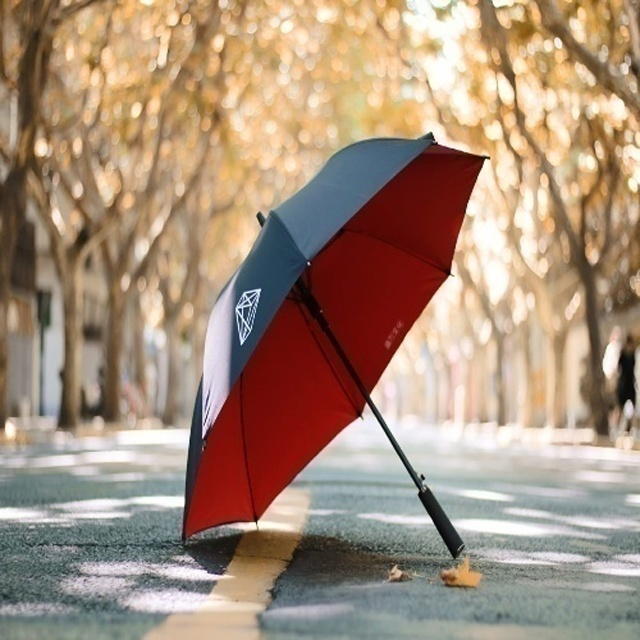umbrella: (173, 131, 498, 565)
